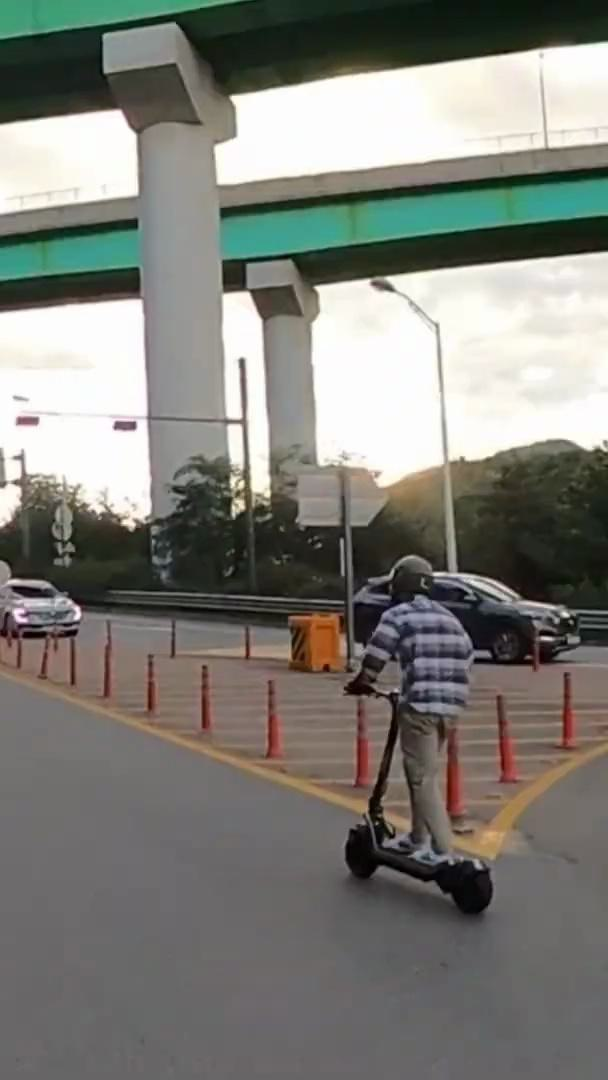helmet: (340, 549, 497, 921)
